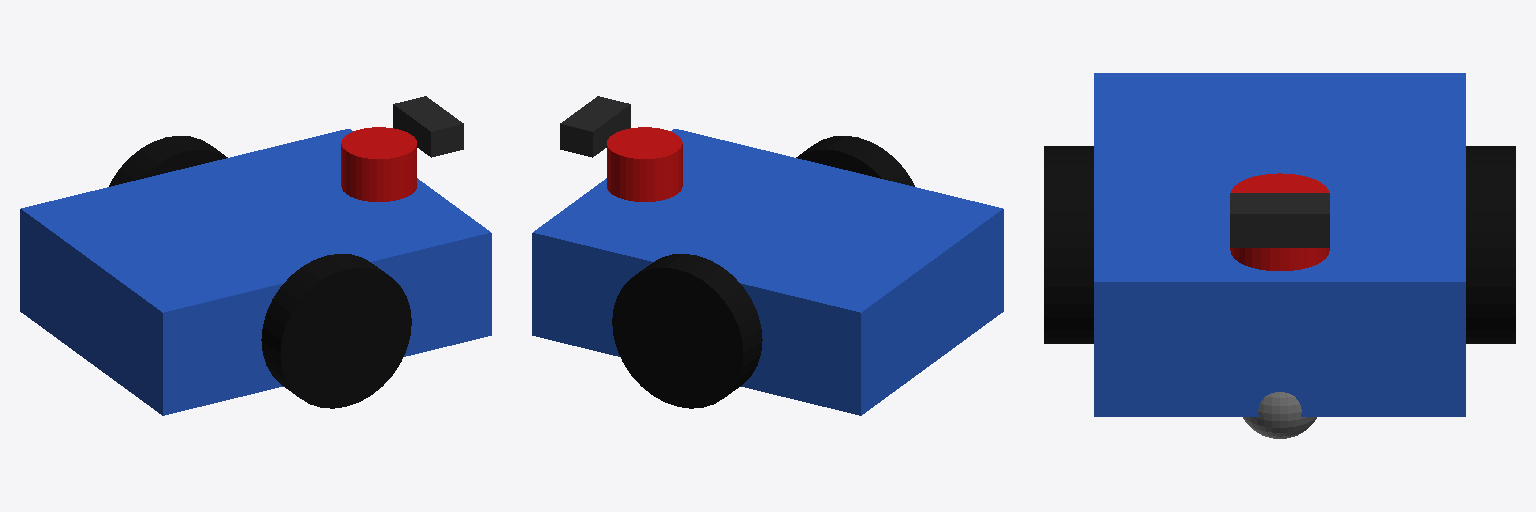
URDF robot description (test_robot):
<?xml version="1.0"?>
<robot name="test_robot">

  <link name="base_footprint"/>

  <joint name="base_joint" type="fixed">
    <parent link="base_footprint"/>
    <child link="base_link"/>
    <origin xyz="0 0 0.08" rpy="0 0 0"/>
  </joint>

  <link name="base_link">
    <visual>
      <geometry><box size="0.4 0.3 0.12"/></geometry>
      <material name="blue"><color rgba="0.2 0.4 0.8 1"/></material>
    </visual>
    <inertial>
      <mass value="8.0"/>
      <inertia ixx="0.06" ixy="0" ixz="0" iyy="0.09" iyz="0" izz="0.12"/>
    </inertial>
    <collision>
      <geometry><box size="0.4 0.3 0.12"/></geometry>
    </collision>
  </link>

  <!-- Left wheel -->
  <joint name="left_wheel_joint" type="continuous">
    <parent link="base_link"/>
    <child link="left_wheel"/>
    <origin xyz="0 0.17 0" rpy="-1.5708 0 0"/>
    <axis xyz="0 0 1"/>
  </joint>
  <link name="left_wheel">
    <visual>
      <geometry><cylinder radius="0.08" length="0.04"/></geometry>
      <material name="black"><color rgba="0.1 0.1 0.1 1"/></material>
    </visual>
    <inertial>
      <mass value="0.8"/>
      <inertia ixx="0.0016" ixy="0" ixz="0" iyy="0.0016" iyz="0" izz="0.0029"/>
    </inertial>
    <collision>
      <geometry><cylinder radius="0.08" length="0.04"/></geometry>
    </collision>
  </link>

  <!-- Right wheel -->
  <joint name="right_wheel_joint" type="continuous">
    <parent link="base_link"/>
    <child link="right_wheel"/>
    <origin xyz="0 -0.17 0" rpy="-1.5708 0 0"/>
    <axis xyz="0 0 1"/>
  </joint>
  <link name="right_wheel">
    <visual>
      <geometry><cylinder radius="0.08" length="0.04"/></geometry>
      <material name="black"><color rgba="0.1 0.1 0.1 1"/></material>
    </visual>
    <inertial>
      <mass value="0.8"/>
      <inertia ixx="0.0016" ixy="0" ixz="0" iyy="0.0016" iyz="0" izz="0.0029"/>
    </inertial>
    <collision>
      <geometry><cylinder radius="0.08" length="0.04"/></geometry>
    </collision>
  </link>

  <!-- Front caster -->
  <link name="caster">
    <visual>
      <geometry><sphere radius="0.035"/></geometry>
      <material name="grey"><color rgba="0.5 0.5 0.5 1"/></material>
    </visual>
    <inertial><mass value="0.2"/><inertia ixx="0.0001" ixy="0" ixz="0" iyy="0.0001" iyz="0" izz="0.0001"/></inertial>
    <collision>
      <geometry><sphere radius="0.035"/></geometry>
    </collision>
  </link>
  <joint name="caster_joint" type="fixed">
    <parent link="base_link"/>
    <child link="caster"/>
    <origin xyz="0.17 0 -0.055"/>
  </joint>

  <!-- Lidar link -->
  <link name="laser_frame">
    <visual>
      <geometry><cylinder radius="0.04" length="0.05"/></geometry>
      <material name="red"><color rgba="0.8 0.1 0.1 1"/></material>
    </visual>
    <inertial><mass value="0.1"/><inertia ixx="0.00005" ixy="0" ixz="0" iyy="0.00005" iyz="0" izz="0.00005"/></inertial>
  </link>
  <joint name="laser_joint" type="fixed">
    <parent link="base_link"/>
    <child link="laser_frame"/>
    <origin xyz="0.15 0 0.09"/>
  </joint>

  <!-- IMU link -->
  <link name="imu_link">
    <inertial><mass value="0.05"/><inertia ixx="0.00001" ixy="0" ixz="0" iyy="0.00001" iyz="0" izz="0.00001"/></inertial>
  </link>
  <joint name="imu_joint" type="fixed">
    <parent link="base_link"/>
    <child link="imu_link"/>
    <origin xyz="0 0 0.06"/>
  </joint>

  <!-- Camera link (robot-body frame: x-forward, z-up) -->
  <link name="camera_link">
    <visual>
      <geometry><box size="0.04 0.08 0.03"/></geometry>
      <material name="grey2"><color rgba="0.2 0.2 0.2 1"/></material>
    </visual>
    <inertial>
      <mass value="0.1"/>
      <inertia ixx="0.00008" ixy="0" ixz="0" iyy="0.0001" iyz="0" izz="0.0001"/>
    </inertial>
    <collision>
      <geometry><box size="0.04 0.08 0.03"/></geometry>
    </collision>
  </link>
  <joint name="camera_joint" type="fixed">
    <parent link="base_link"/>
    <child link="camera_link"/>
    <origin xyz="0.21 0 0.12" rpy="0 0 0"/>
  </joint>

  <!-- Camera optical frame (REP-103: z-forward, x-right, y-down) -->
  <link name="camera_optical_frame"/>
  <joint name="camera_optical_joint" type="fixed">
    <parent link="camera_link"/>
    <child link="camera_optical_frame"/>
    <origin xyz="0 0 0" rpy="-1.5707963 0 -1.5707963"/>
  </joint>

  <!-- Wheel friction for reliable ground contact (ODE) -->
  <gazebo reference="left_wheel">
    <mu1>1.0</mu1>
    <mu2>1.0</mu2>
    <kp>1000000.0</kp>
    <kd>100.0</kd>
    <fdir1>1 0 0</fdir1>
  </gazebo>
  <gazebo reference="right_wheel">
    <mu1>1.0</mu1>
    <mu2>1.0</mu2>
    <kp>1000000.0</kp>
    <kd>100.0</kd>
    <fdir1>1 0 0</fdir1>
  </gazebo>

  <gazebo reference="caster">
    <mu1>0.0</mu1>
    <mu2>0.0</mu2>
  </gazebo>

  <!-- Differential drive -->
  <gazebo>
    <plugin name="diff_drive" filename="libgazebo_ros_diff_drive.so">
      <ros><namespace>/</namespace></ros>
      <update_rate>50</update_rate>
      <left_joint>left_wheel_joint</left_joint>
      <right_joint>right_wheel_joint</right_joint>
      <wheel_separation>0.34</wheel_separation>
      <wheel_diameter>0.16</wheel_diameter>
      <max_wheel_torque>20</max_wheel_torque>
      <max_wheel_acceleration>2.0</max_wheel_acceleration>
      <command_topic>cmd_vel</command_topic>
      <publish_odom>true</publish_odom>
      <publish_odom_tf>true</publish_odom_tf>
      <publish_wheel_tf>false</publish_wheel_tf>
      <odometry_topic>odom</odometry_topic>
      <odometry_frame>odom</odometry_frame>
      <robot_base_frame>base_footprint</robot_base_frame>
    </plugin>
  </gazebo>

  <!-- IMU sensor -->
  <gazebo reference="imu_link">
    <sensor name="imu" type="imu">
      <always_on>true</always_on>
      <update_rate>100</update_rate>
      <visualize>false</visualize>
      <topic>imu/data</topic>
      <plugin name="imu_plugin" filename="libgazebo_ros_imu_sensor.so">
        <ros><namespace>/</namespace></ros>
        <initial_orientation_as_reference>false</initial_orientation_as_reference>
      </plugin>
    </sensor>
  </gazebo>

  <!-- Lidar sensor -->
  <gazebo reference="laser_frame">
    <sensor name="lidar" type="ray">
      <always_on>true</always_on>
      <update_rate>10</update_rate>
      <visualize>false</visualize>
      <pose>0 0 0 0 0 0</pose>
      <ray>
        <scan>
          <horizontal>
            <samples>360</samples>
            <resolution>1</resolution>
            <min_angle>-3.14159</min_angle>
            <max_angle>3.14159</max_angle>
          </horizontal>
        </scan>
        <range>
          <min>0.15</min>
          <max>12.0</max>
          <resolution>0.01</resolution>
        </range>
        <noise>
          <type>gaussian</type>
          <mean>0.0</mean>
          <stddev>0.01</stddev>
        </noise>
      </ray>
      <plugin name="lidar_plugin" filename="libgazebo_ros_ray_sensor.so">
        <ros>
          <namespace>/</namespace>
          <remapping>~/out:=scan</remapping>
        </ros>
        <output_type>sensor_msgs/LaserScan</output_type>
        <frame_name>laser_frame</frame_name>
      </plugin>
    </sensor>
  </gazebo>

  <!-- Camera sensor (publishes sensor_msgs/Image + CameraInfo) -->
  <gazebo reference="camera_link">
    <sensor name="camera" type="camera">
      <always_on>true</always_on>
      <update_rate>20</update_rate>
      <visualize>false</visualize>
      <camera>
        <horizontal_fov>1.089</horizontal_fov>
        <image>
          <width>640</width>
          <height>480</height>
          <format>R8G8B8</format>
        </image>
        <clip>
          <near>0.05</near>
          <far>20.0</far>
        </clip>
        <noise>
          <type>gaussian</type>
          <mean>0.0</mean>
          <stddev>0.007</stddev>
        </noise>
      </camera>
      <plugin name="camera_plugin" filename="libgazebo_ros_camera.so">
        <ros>
          <namespace>/</namespace>
          <remapping>image_raw:=camera/image_raw</remapping>
          <remapping>camera_info:=camera/camera_info</remapping>
        </ros>
        <frame_name>camera_optical_frame</frame_name>
      </plugin>
    </sensor>
  </gazebo>

</robot>

--- What the picture shows (computed from the rendered views, not written in the file) ---
Views: 3 orthographic renders of the robot side by side, from view 1: azimuth 30°, elevation 25°; view 2: azimuth 150°, elevation 25°; view 3: azimuth 270°, elevation 25°.
Robot: test_robot — 9 links, 8 joints (2 continuous, 6 fixed); root link base_footprint; default pose: every joint at zero.
Visible links, largest first — view 1: base_link, right_wheel, laser_frame, left_wheel, camera_link; view 2: base_link, left_wheel, laser_frame, right_wheel, camera_link; view 3: base_link, left_wheel, right_wheel, camera_link, laser_frame, caster.
Boxes of the visible links, <box> form: base_link: <box>20,129,491,415</box>; right_wheel: <box>261,254,411,408</box>; laser_frame: <box>341,127,416,201</box>; left_wheel: <box>109,136,227,186</box>; camera_link: <box>393,96,463,157</box>; base_link: <box>532,129,1003,415</box>; left_wheel: <box>612,254,762,408</box>; laser_frame: <box>607,127,682,201</box>; right_wheel: <box>796,136,914,186</box>; camera_link: <box>560,96,630,157</box>; base_link: <box>1094,73,1465,416</box>; left_wheel: <box>1466,146,1515,343</box>; right_wheel: <box>1044,146,1093,343</box>; camera_link: <box>1230,193,1329,247</box>; laser_frame: <box>1230,173,1329,270</box>; caster: <box>1243,392,1316,438</box>.
Bounding box of the posed robot: 0.43 × 0.38 × 0.225 m (x, y, z).
Geometry: primitives only (box / cylinder / sphere), no mesh files.
